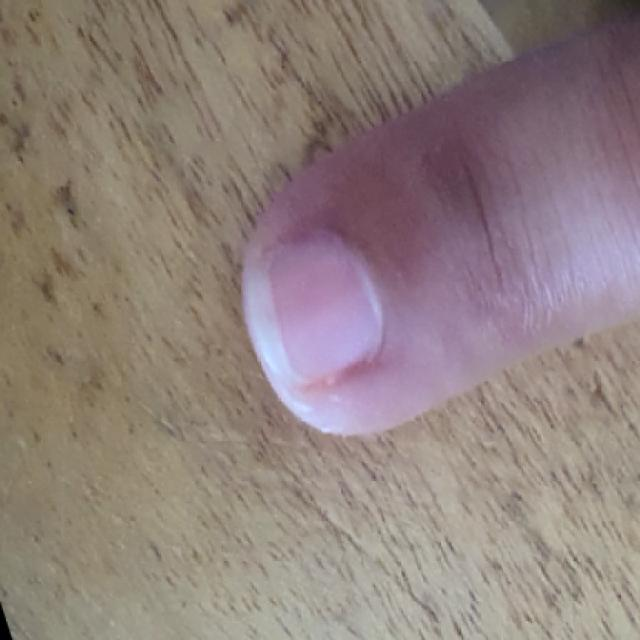Nail: (243, 231, 382, 386)
